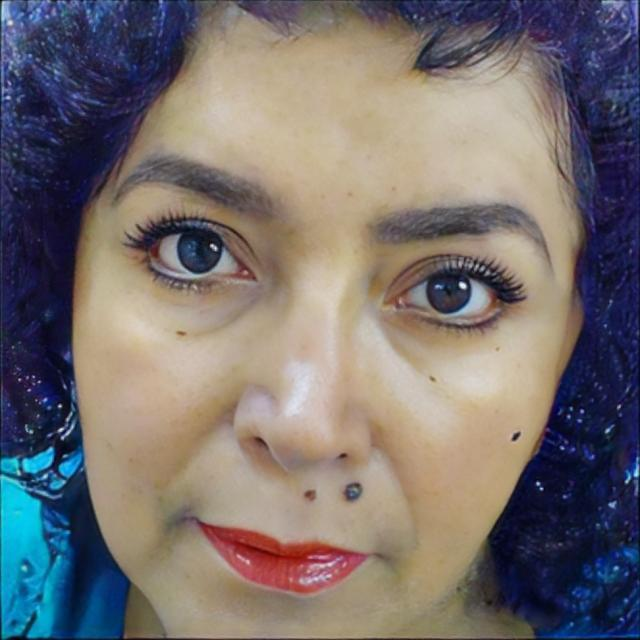content: (75, 0, 586, 640)
